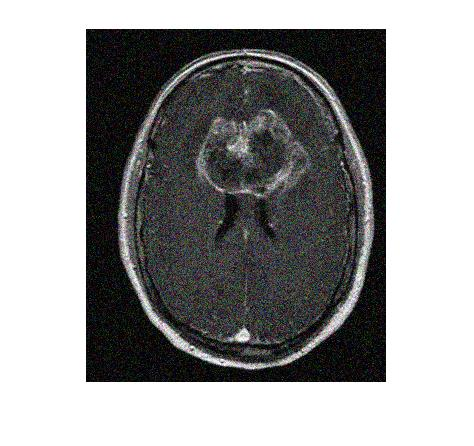Brain_Cancer: (203, 117, 299, 198)
